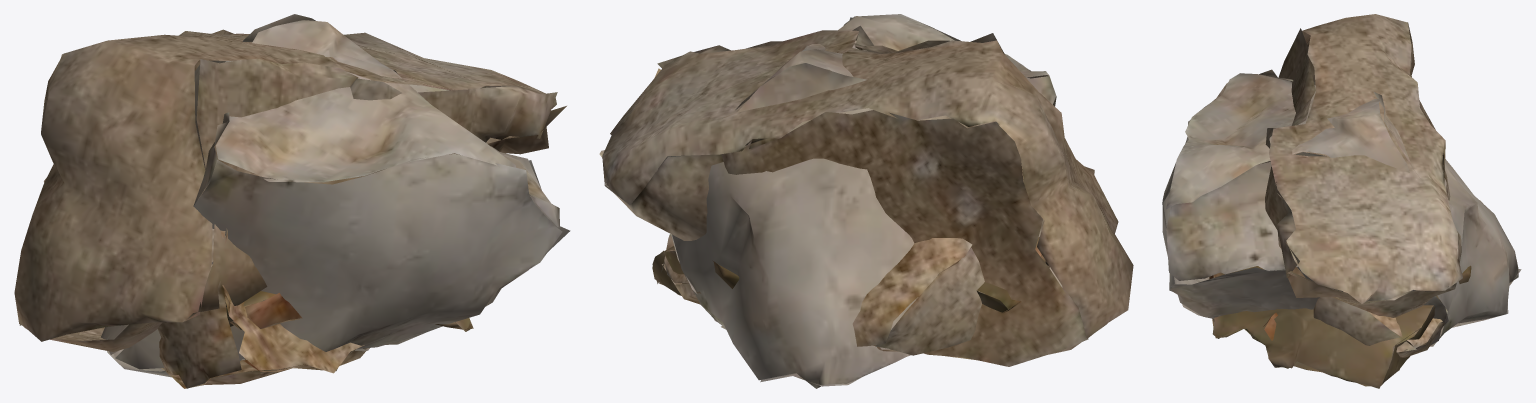
Rendered from pebbles.glb.
3 renders of one model, left to right at view 1: azimuth 30°, elevation 25°; view 2: azimuth 150°, elevation 25°; view 3: azimuth 270°, elevation 25°, orthographic. The views are drawn at different scales.
Parts seen in each view (by area): view 1: pebbles_v3_lod0, pebbles_v2_lod0, pebbles_v1_lod0, pebbles_v4_lod0; view 2: pebbles_v3_lod0, pebbles_v2_lod0, pebbles_v1_lod0, pebbles_v4_lod0; view 3: pebbles_v3_lod0, pebbles_v2_lod0, pebbles_v4_lod0, pebbles_v1_lod0.
Boxes of the visible parts, <box> form: pebbles_v3_lod0: <box>14,29,566,351</box>; pebbles_v2_lod0: <box>101,14,570,377</box>; pebbles_v1_lod0: <box>158,173,367,388</box>; pebbles_v4_lod0: <box>164,291,473,331</box>; pebbles_v3_lod0: <box>599,25,1133,366</box>; pebbles_v2_lod0: <box>657,14,1062,388</box>; pebbles_v1_lod0: <box>661,142,1049,355</box>; pebbles_v4_lod0: <box>652,237,1048,312</box>; pebbles_v3_lod0: <box>1259,14,1462,317</box>; pebbles_v2_lod0: <box>1162,69,1521,346</box>; pebbles_v4_lod0: <box>1209,265,1471,388</box>; pebbles_v1_lod0: <box>1313,200,1482,357</box>.
Size of what is drawn, in the model's own units: 0.1491 by 0.0846 by 0.1126.
Materials: 5 (5 with a texture image).
